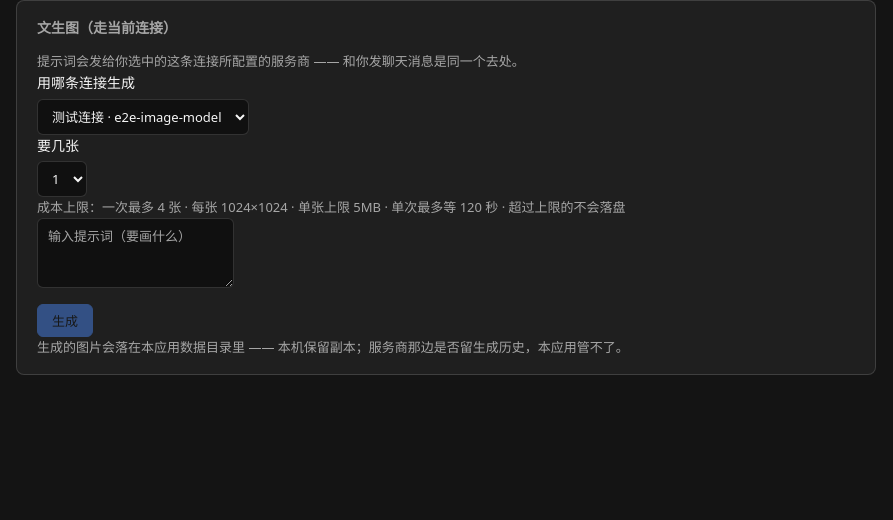
Test case: 文生图面板：回执与失败（R51 S1） › 成功：产物路径 / 大小 / 类型都在界面上
Step 1. Type "一只猫" into the text box labelled "提示词" → (136, 253), box [37,218,234,288]
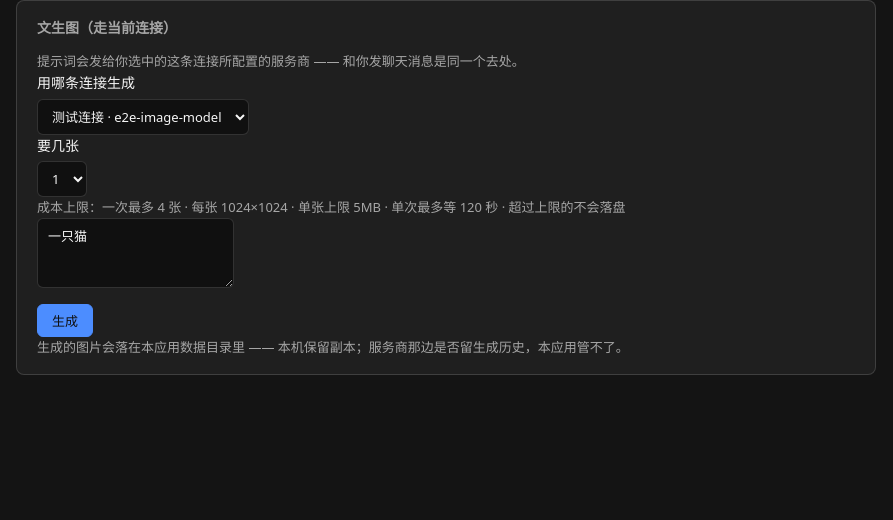
Step 2. Click the button "生成" → (65, 321), box [37,304,93,337]
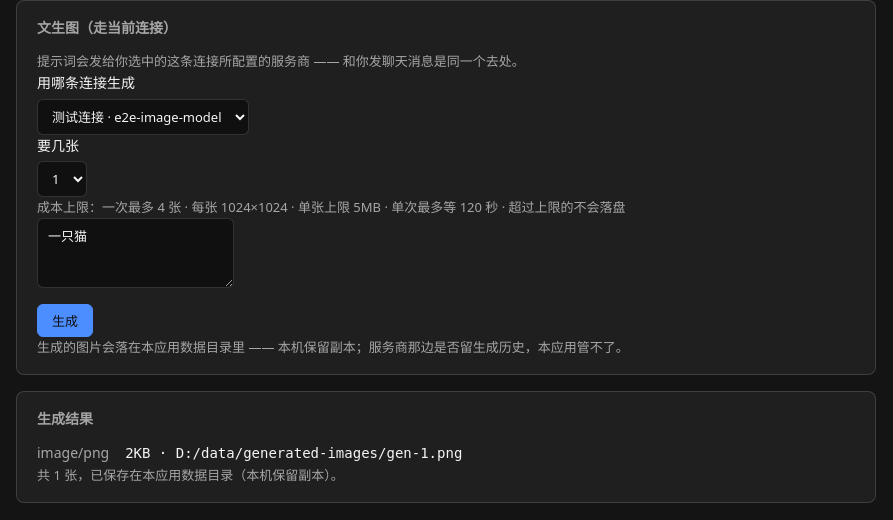
Now the text "gen-1.png" is shown, box [125,445,462,461]
Now the text "image/png" is shown, box [37,442,109,465]
Now the text "2KB" is shown, box [125,445,462,461]
